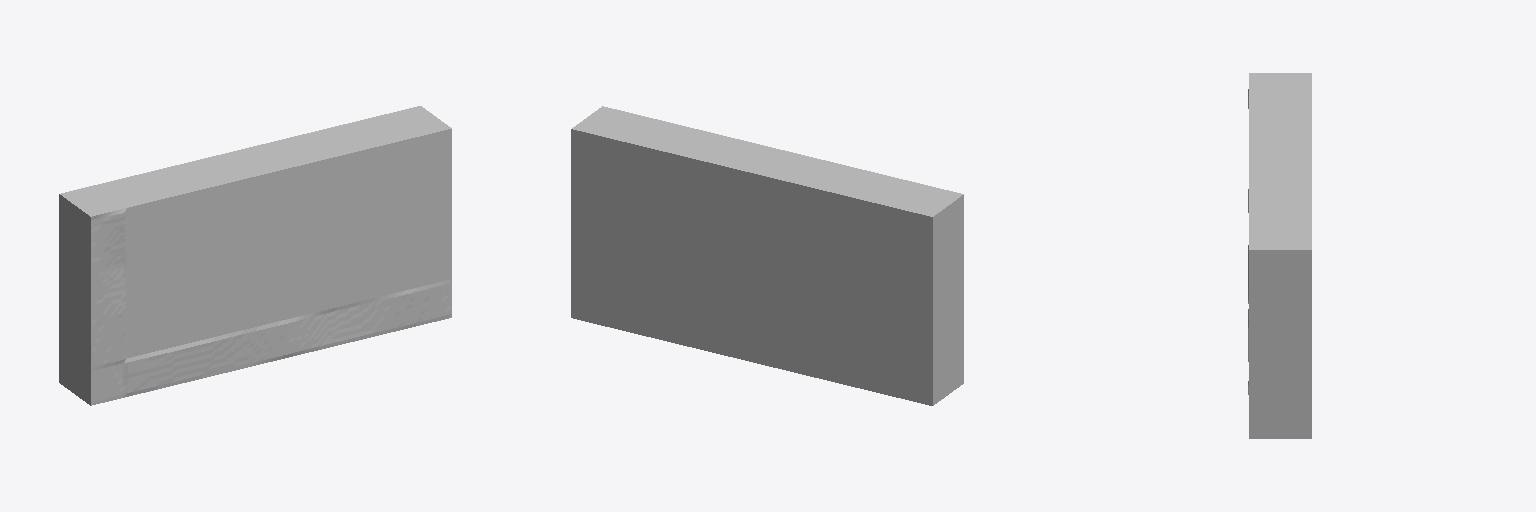
File: rectangular_prism_bumps_1_4.obj
3 renders of one model, left to right at view 1: azimuth 30°, elevation 25°; view 2: azimuth 150°, elevation 25°; view 3: azimuth 270°, elevation 25°, orthographic.
Size of the model in its own units: 10 by 5 by 1.53.